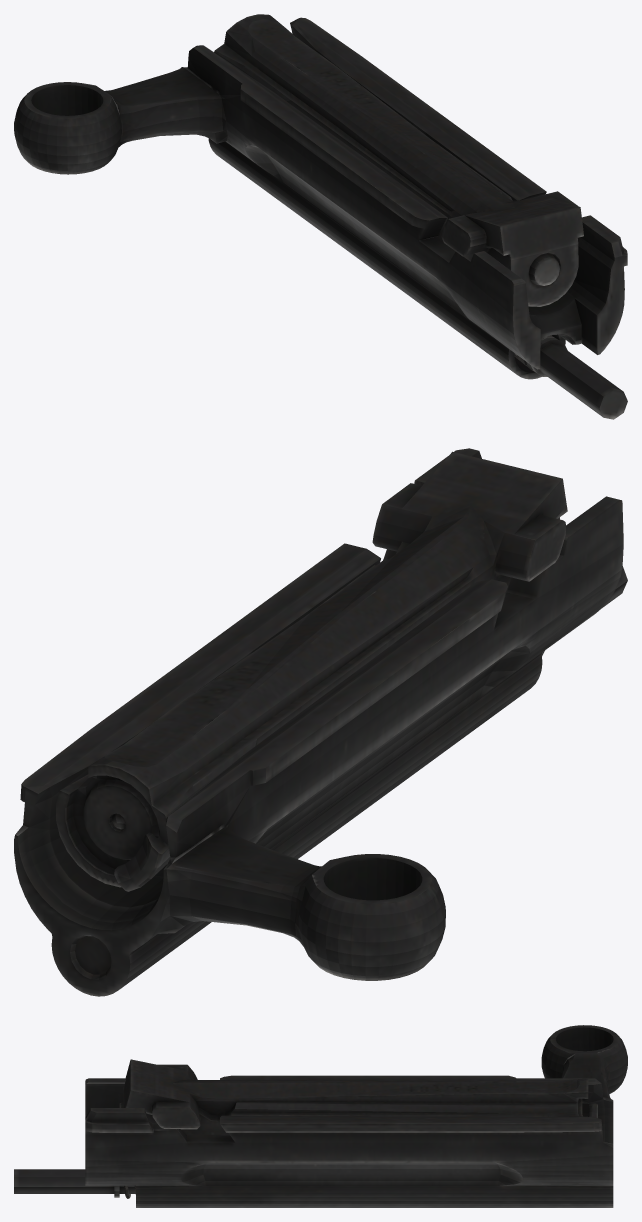
The picture shows the model from 3 angles, top to bottom: view 1: azimuth 30°, elevation 25°; view 2: azimuth 150°, elevation 25°; view 3: azimuth 270°, elevation 25°; orthographic projection. The views are drawn at different scales.
Visible parts, largest first — view 1: TW_643ea5b23db6f9f57107d9fd_PZ_Import; view 2: TW_643ea5b23db6f9f57107d9fd_PZ_Import; view 3: TW_643ea5b23db6f9f57107d9fd_PZ_Import.
Boxes of the visible parts, box(x1,y1,x2,y2) form: TW_643ea5b23db6f9f57107d9fd_PZ_Import: box(14, 14, 627, 419); TW_643ea5b23db6f9f57107d9fd_PZ_Import: box(14, 448, 627, 996); TW_643ea5b23db6f9f57107d9fd_PZ_Import: box(14, 1025, 627, 1207).
Bounding box in the file's own units: 0.0365 × 0.0821 × 0.0193.
1 material, 1 textured.
